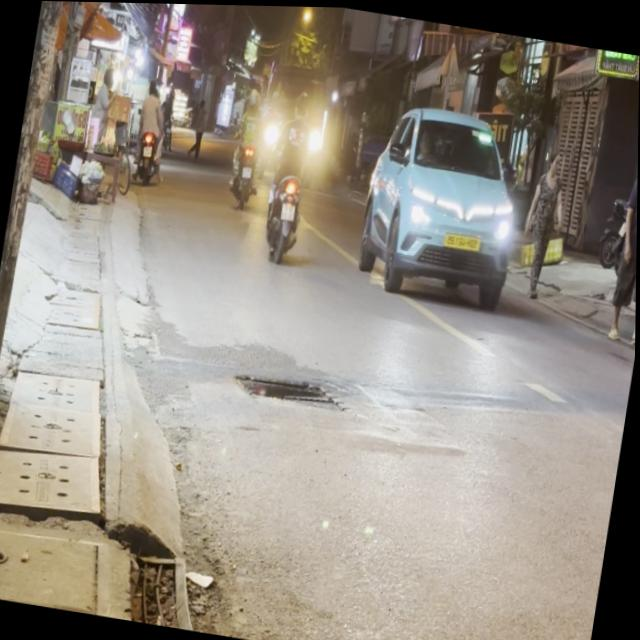licenseplate: (258, 80, 326, 263)
nohelmet: (282, 201, 297, 219)
